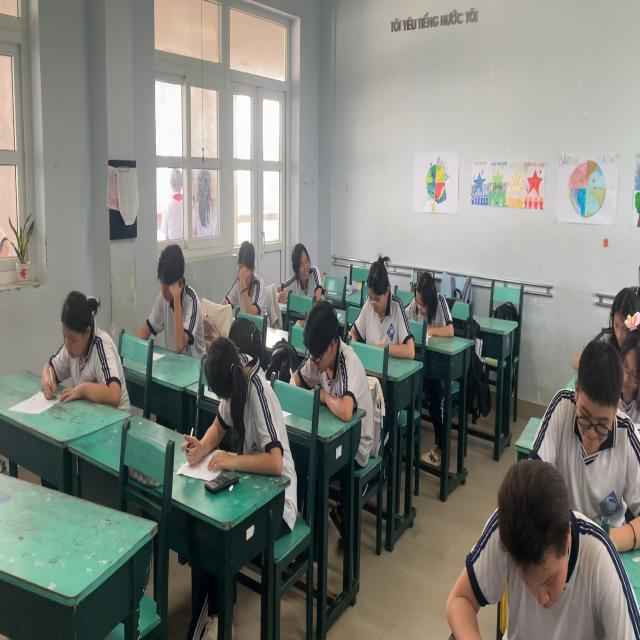cheating: (193, 328, 282, 484), (284, 238, 329, 304)
not_cheating: (438, 466, 606, 640), (564, 296, 620, 469), (39, 293, 123, 404), (129, 242, 208, 349), (294, 296, 358, 407), (352, 258, 411, 358), (404, 266, 455, 342), (222, 241, 262, 317)
